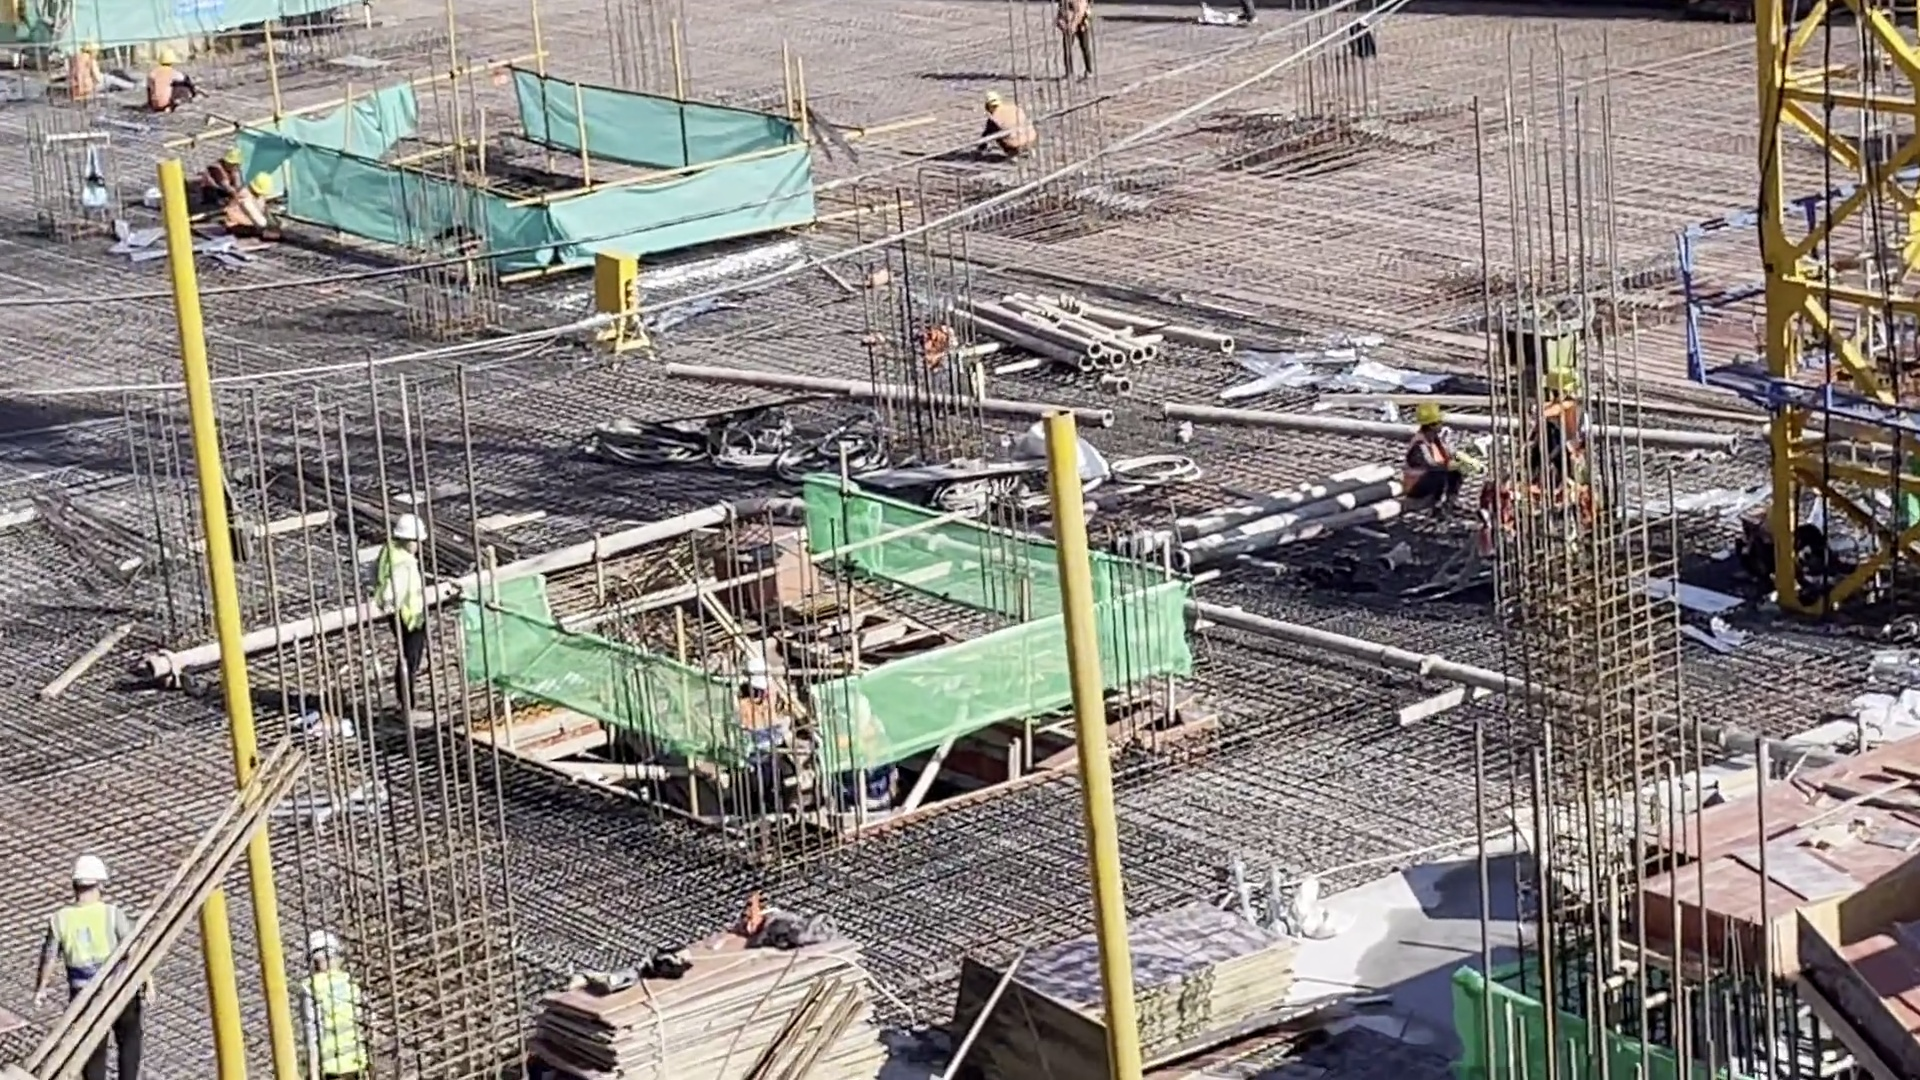helmet: (70, 853, 108, 885), (388, 513, 428, 542), (308, 930, 343, 963), (247, 166, 271, 195), (1415, 401, 1442, 425), (220, 148, 244, 166), (158, 48, 179, 65), (981, 93, 1000, 109)
person: (37, 853, 152, 1079), (297, 931, 376, 1080), (375, 512, 433, 712), (1397, 398, 1485, 522), (974, 89, 1039, 158), (220, 169, 275, 239), (138, 49, 198, 112), (1055, 1, 1093, 80), (64, 38, 103, 104), (201, 147, 243, 202)
vest: (307, 974, 369, 1080), (51, 899, 114, 976), (381, 547, 428, 639), (1406, 436, 1455, 507), (993, 106, 1038, 149), (70, 51, 97, 107), (1056, 1, 1090, 39), (147, 65, 174, 108)
